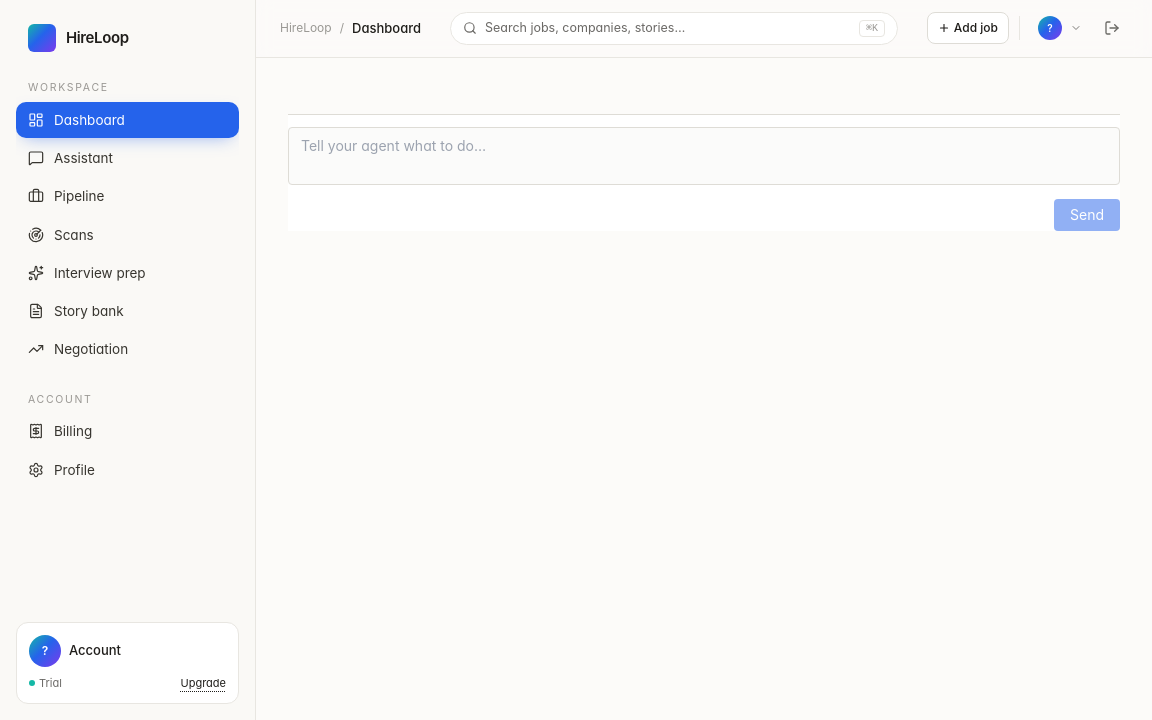
Test: ChatPage › loads the default conversation and renders a sent message with an evaluation card
In the text box with placeholder "Tell your agent what to do…": (704, 156) [288,127,1120,185], type "Evaluate this"
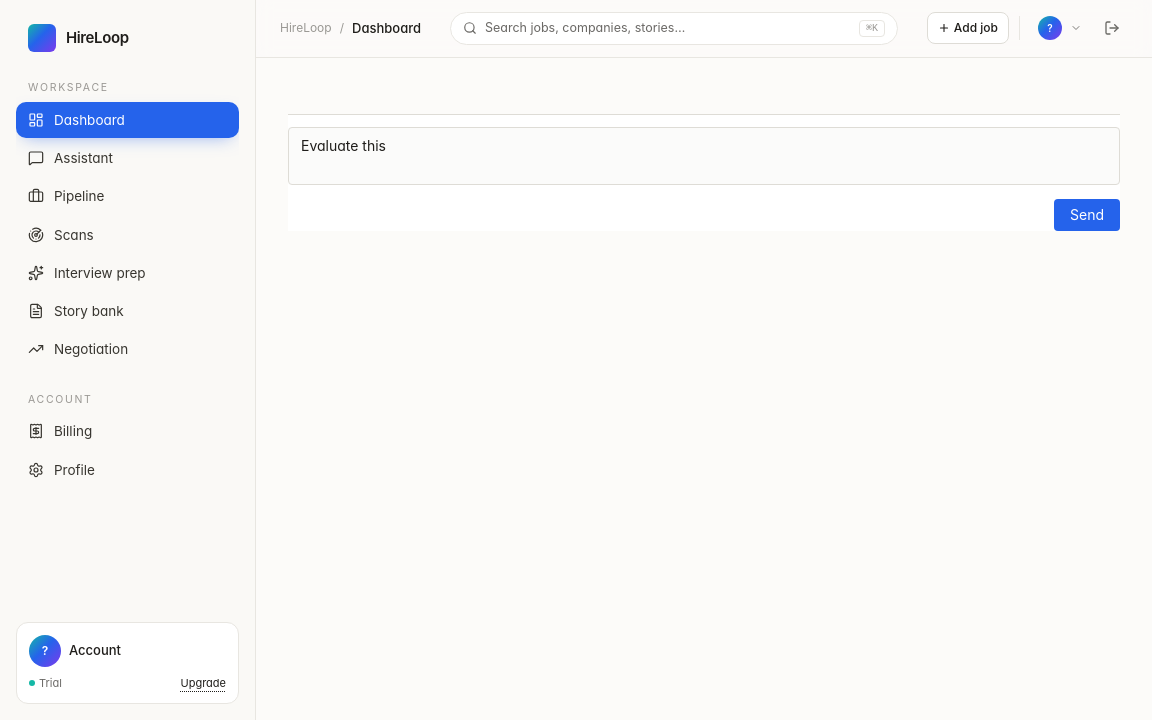
Click the button "Send": (1087, 215) [1054,199,1120,231]
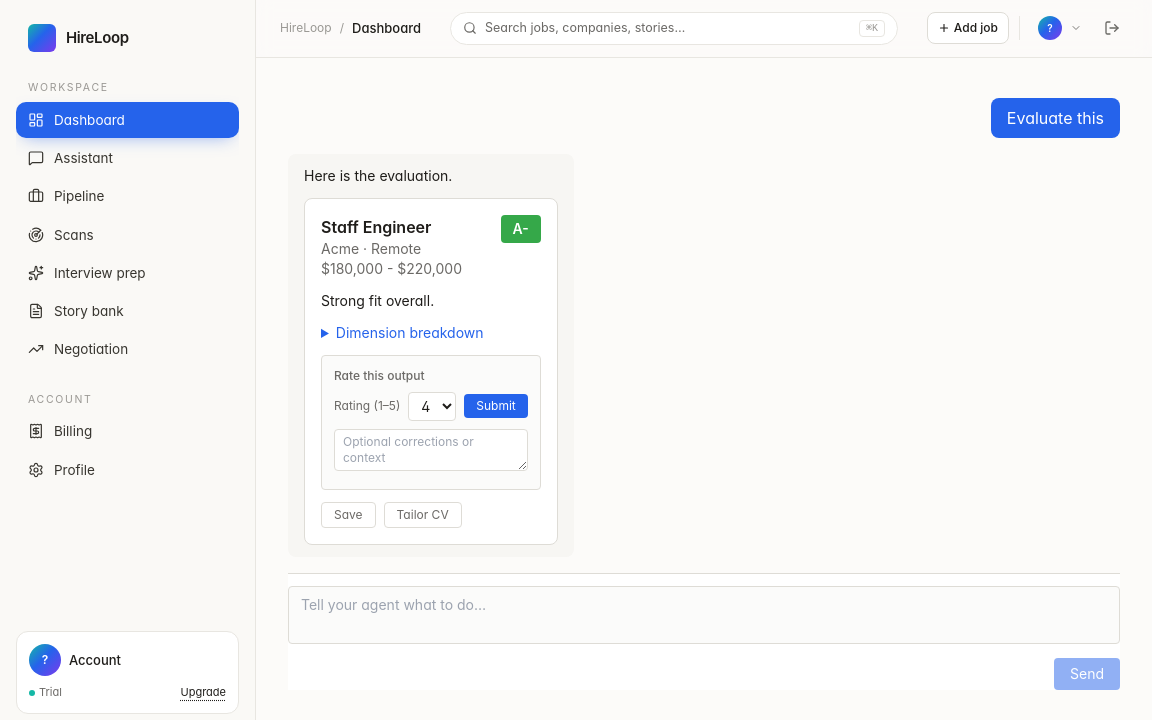
Check: the heading "Staff Engineer" is shown, box [321,217,431,237]
Check: the text "A-" is shown, box [501,215,541,243]
